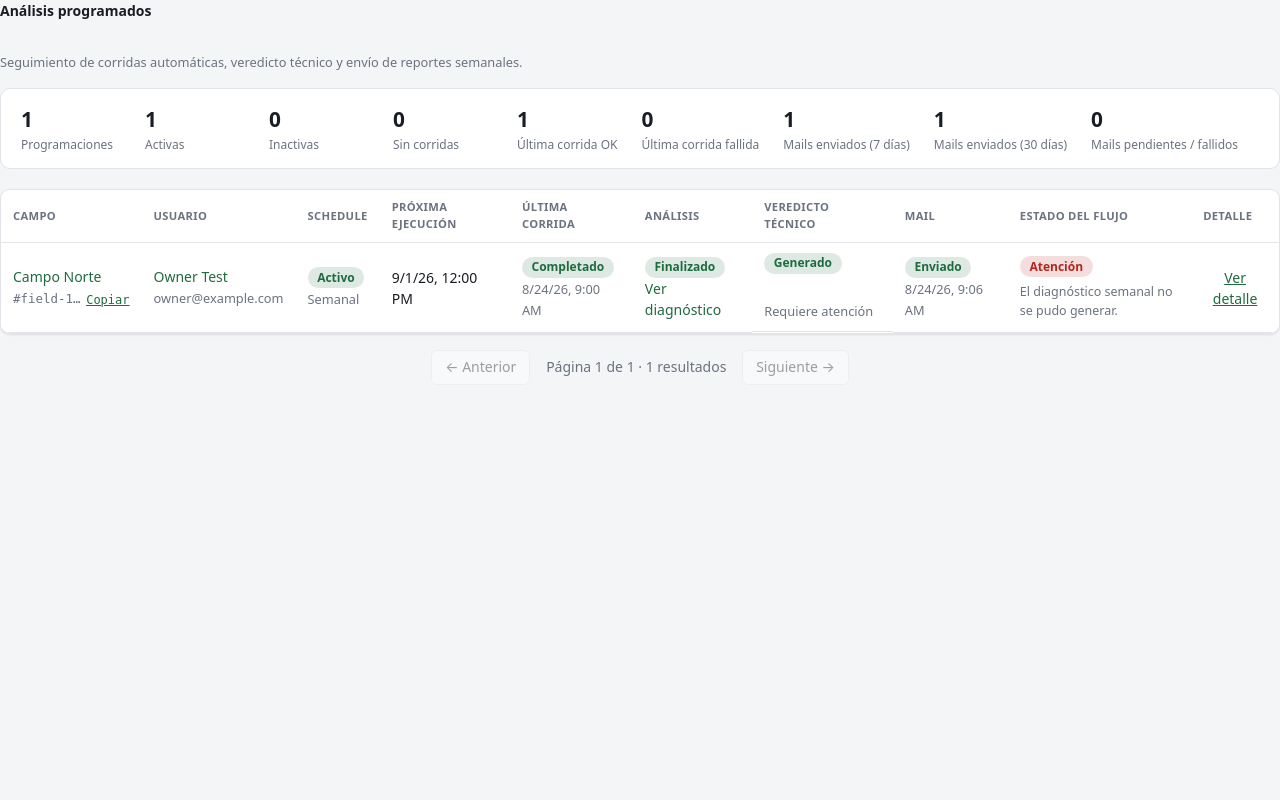
Test: ScheduledAnalysisComponent (PR 13B) › renderiza errorMessage cuando status=failed
The image size is (1280, 800).
Click the button with class "detail-toggle".
click(1235, 288)  # box [1203,266,1267,308]
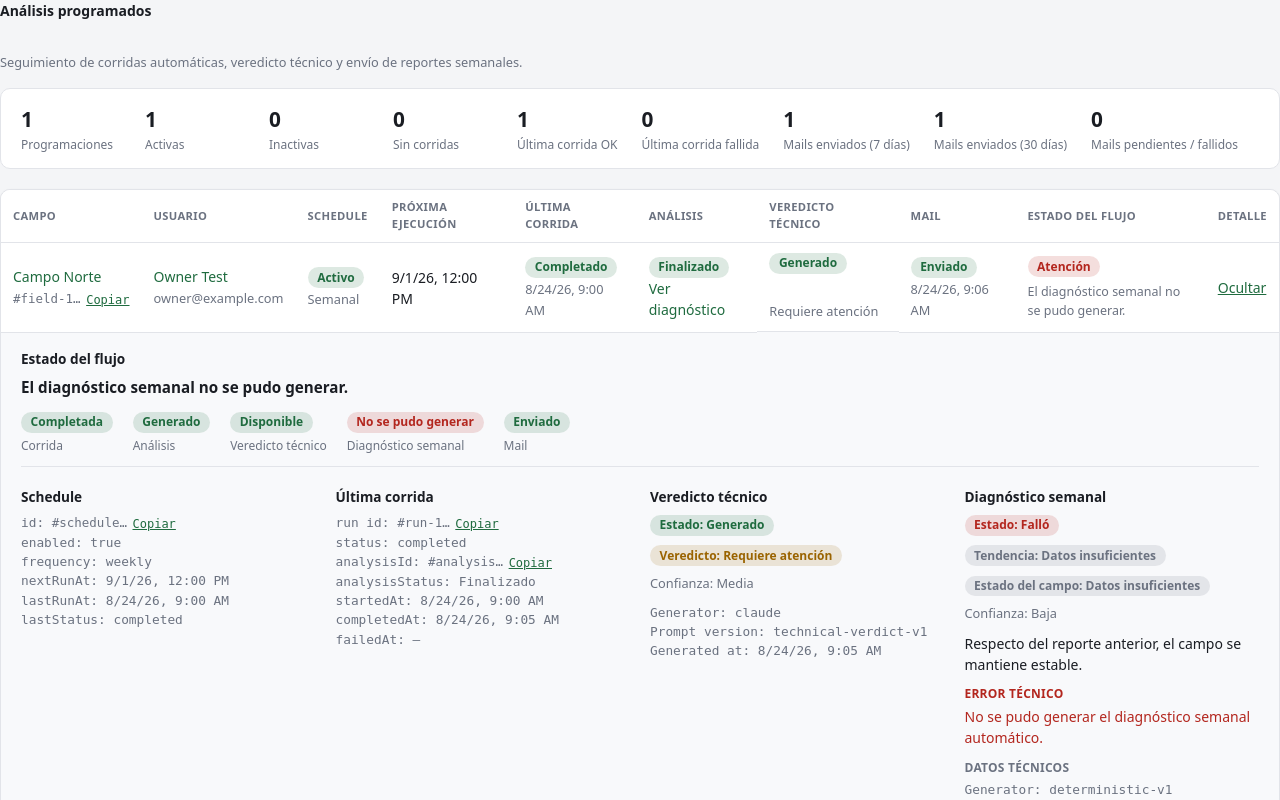
Result: the text "Error técnico" is shown at [964,686,1064,702]
Result: the text "No se pudo generar el diagnóstico semanal automático." is shown at [964,706,1259,748]
